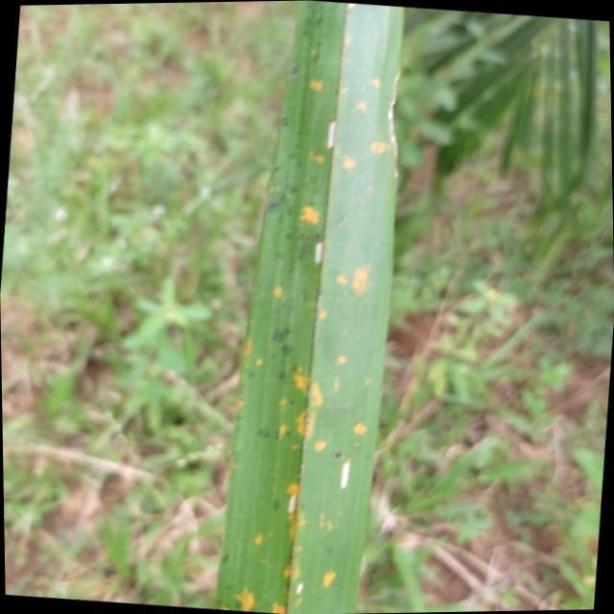Kalium: (216, 5, 406, 614)
